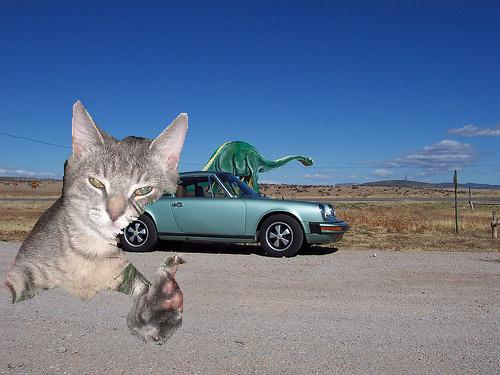tampered: (3, 101, 188, 345)
